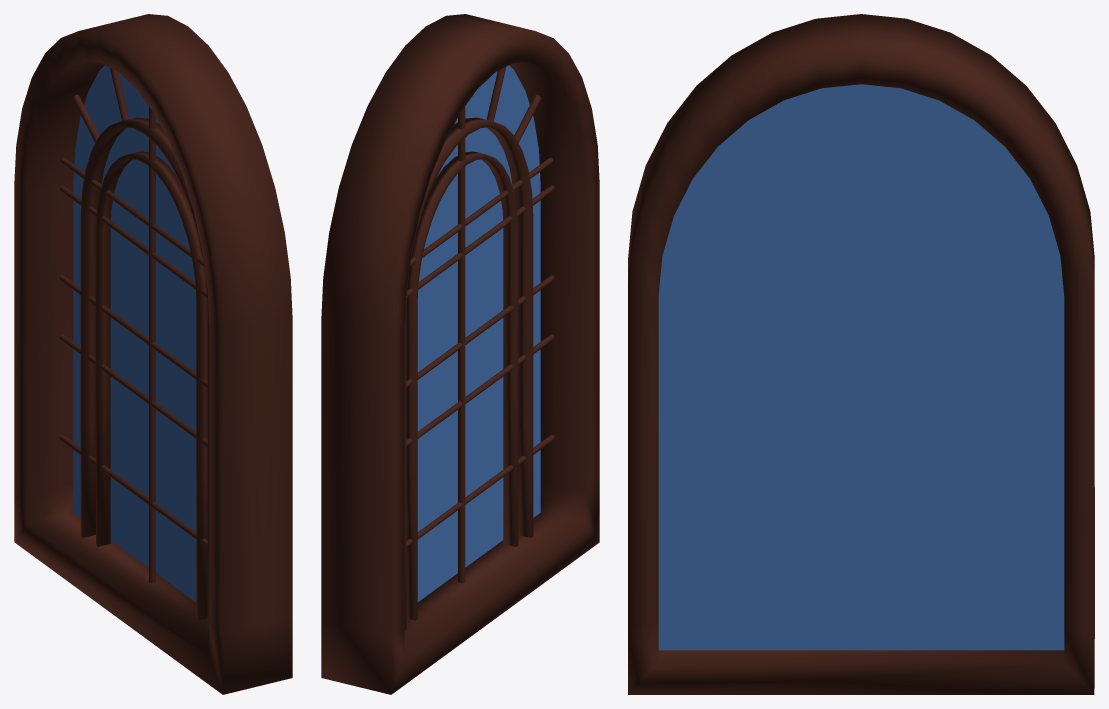
The model's file is Arch_Window4_Hallway1.fbx.
The picture shows the model from 3 angles, left to right: view 1: azimuth 30°, elevation 25°; view 2: azimuth 150°, elevation 25°; view 3: azimuth 270°, elevation 25°; orthographic projection. The views are drawn at different scales.
Parts seen in each view (by area): view 1: HallwayWindowLarge1, Glass.005, Circle.002, Cylinder.010, Circle.001; view 2: HallwayWindowLarge1, Glass.005, Circle.002, Cylinder.010, Circle.001; view 3: Glass.005, HallwayWindowLarge1.
Part boxes in pixels (bbox=[...]): HallwayWindowLarge1: bbox=[14, 14, 292, 694]; Glass.005: bbox=[73, 65, 196, 601]; Circle.002: bbox=[95, 151, 207, 620]; Cylinder.010: bbox=[59, 68, 207, 583]; Circle.001: bbox=[80, 117, 209, 629]; HallwayWindowLarge1: bbox=[321, 14, 599, 694]; Glass.005: bbox=[417, 65, 540, 602]; Circle.002: bbox=[406, 151, 518, 620]; Cylinder.010: bbox=[406, 67, 554, 583]; Circle.001: bbox=[404, 117, 533, 629]; Glass.005: bbox=[658, 84, 1064, 650]; HallwayWindowLarge1: bbox=[628, 14, 1094, 694].
Bounding box in the file's own units: 80.03 × 630 × 415.
